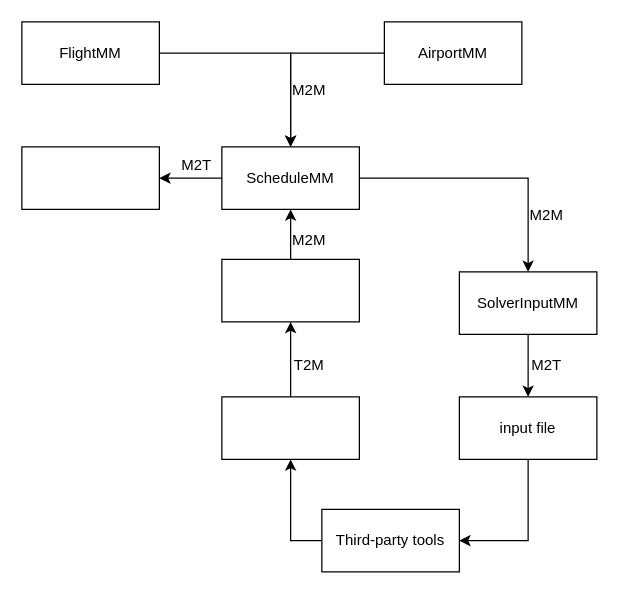
The diagram is 619 pixels wide and 594 high, and some of its shapes have lost their labels. Each missing label, with the centre of its shape:
solver output: (290,427)
SolverResultMM: (290,290)
Text file: (90,177)
